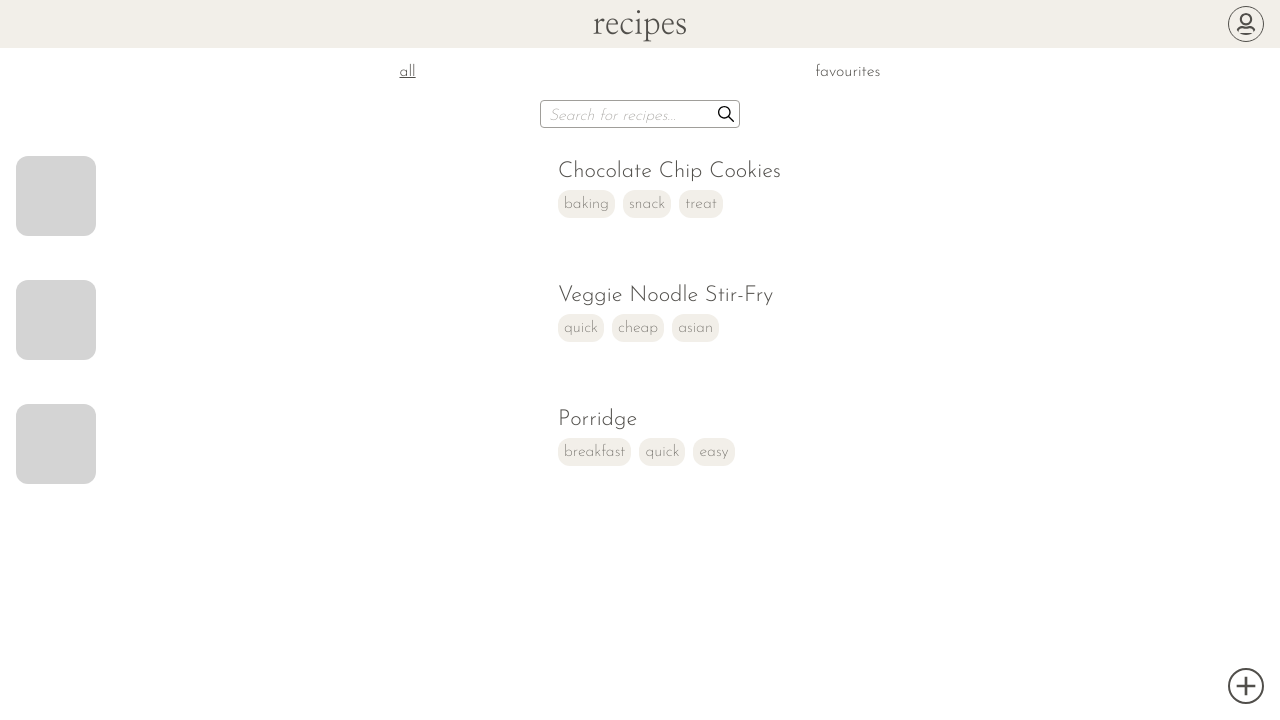
Scenario: should render filtered favourite recipe of user
In the search field with placeholder "Search for recipes...": (640, 114) left=540, top=100, right=740, bottom=128, type "break"
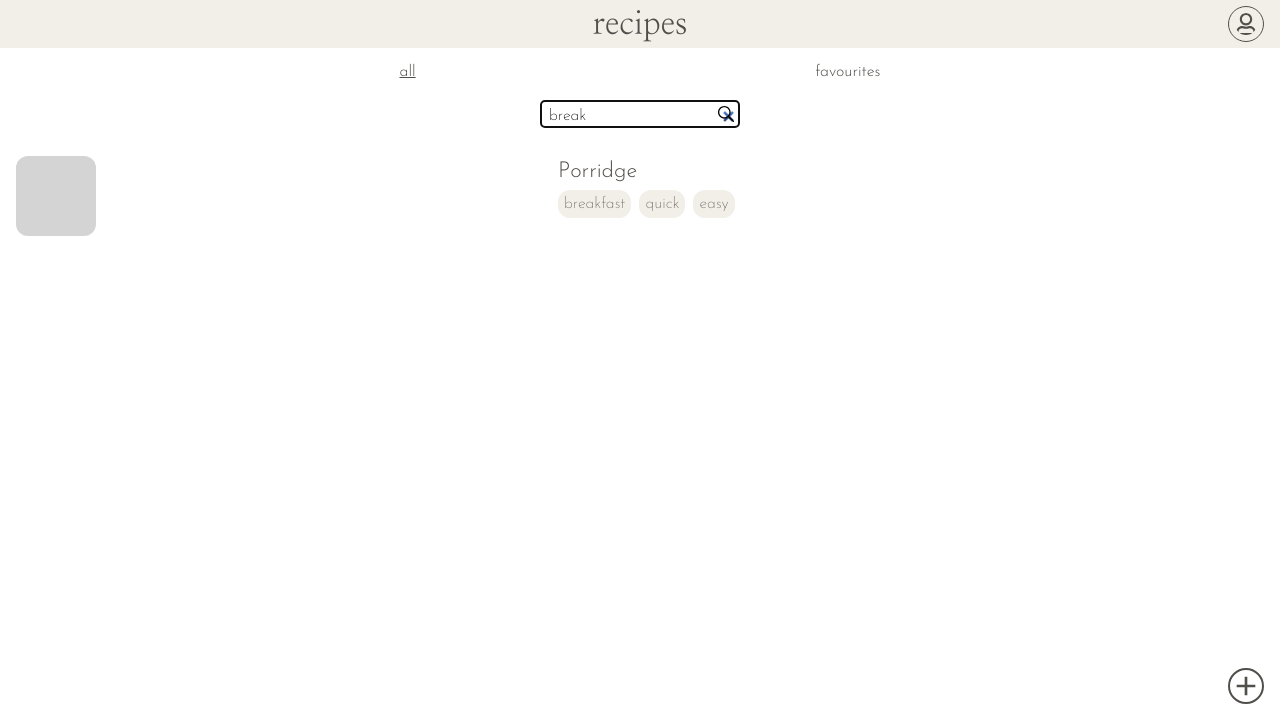
Result: the link "Porridge" is shown at left=558, top=160, right=637, bottom=183
